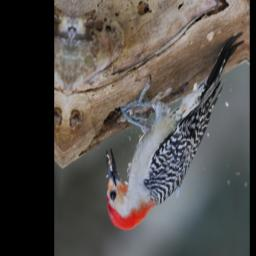Woodpecker: (101, 18, 242, 242)
